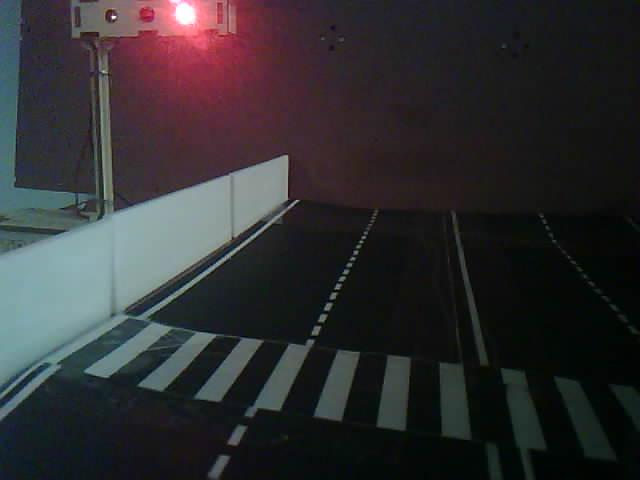crosswalk: (19, 304, 640, 480)
red: (41, 0, 270, 180)
